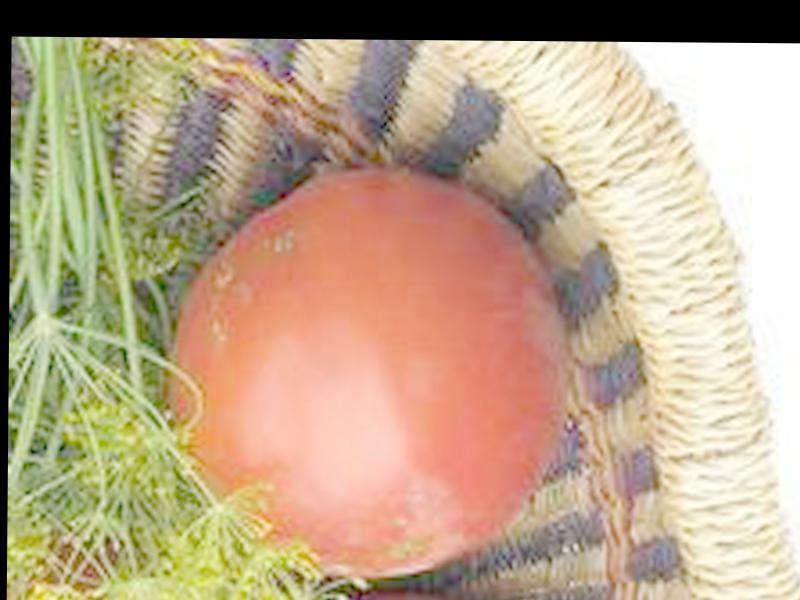Tomato: (164, 171, 569, 581)
